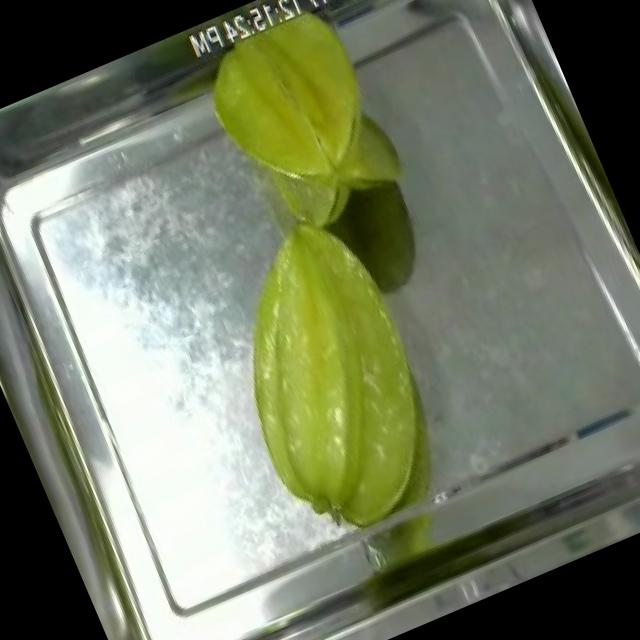fruit: (182, 196, 482, 561), (181, 0, 411, 228)
